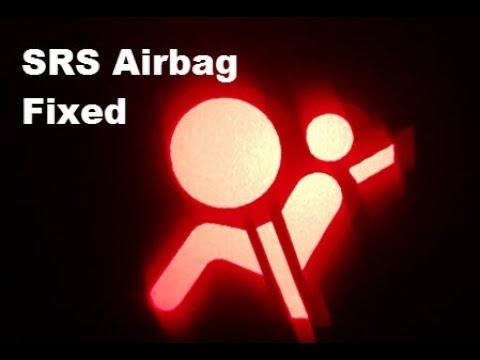Airbag_warning: (152, 91, 404, 341)
